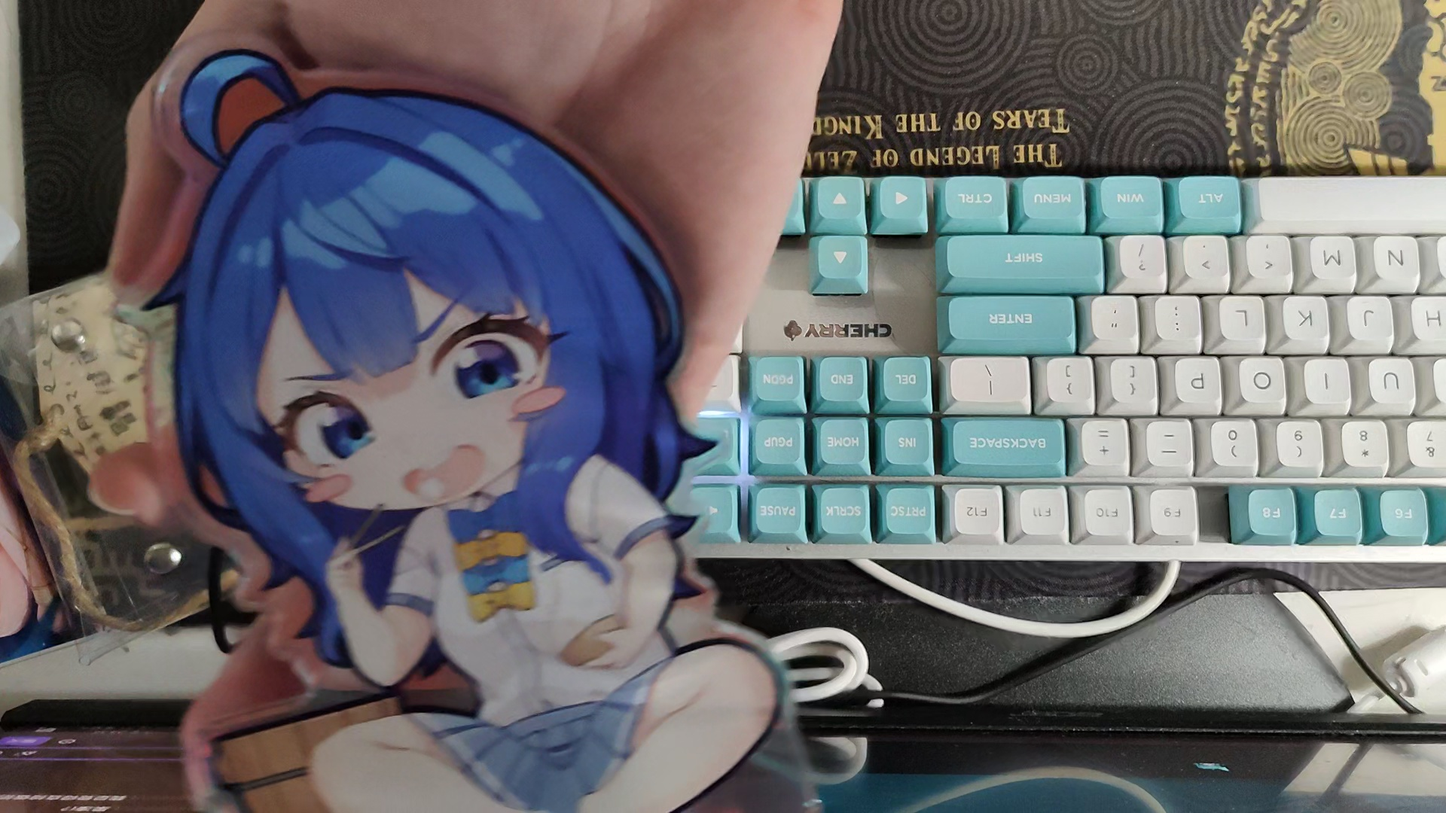Yanami-anna: (111, 35, 829, 813)
